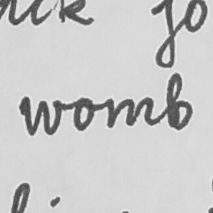b: (161, 71, 195, 133)
m: (101, 93, 155, 131)
o: (70, 95, 98, 133)
w: (17, 93, 65, 138)
